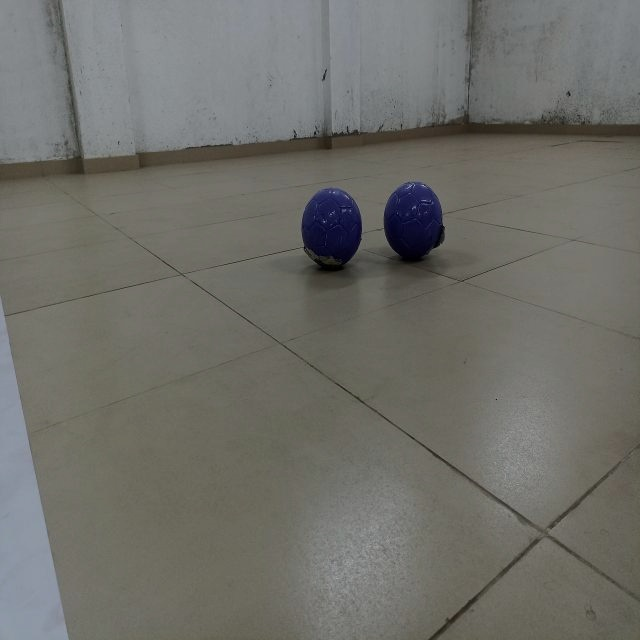purple_ball: (379, 174, 454, 266), (303, 180, 366, 274)
